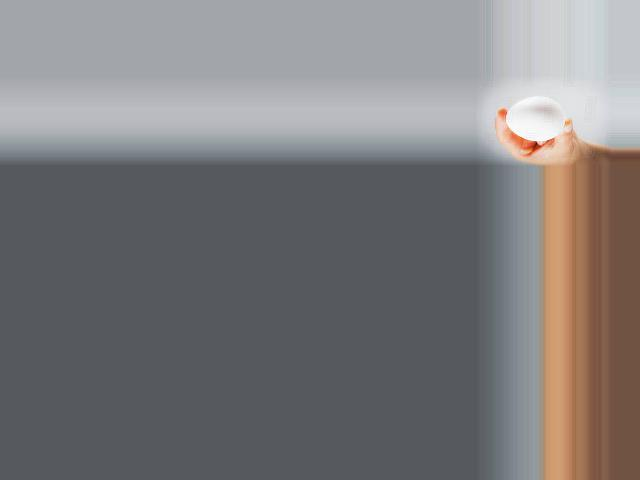egg: (505, 97, 564, 139)
